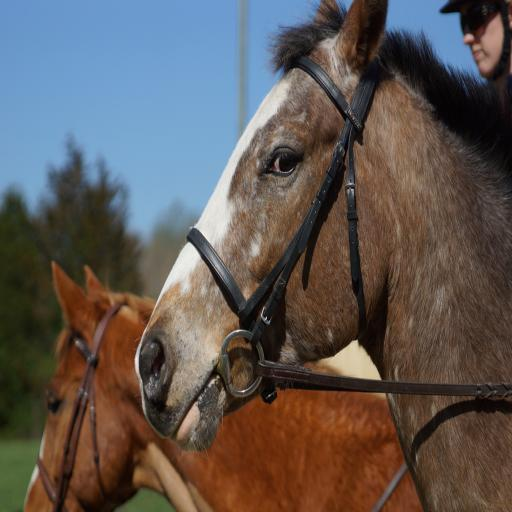horse: (132, 0, 512, 512), (22, 258, 422, 512)
